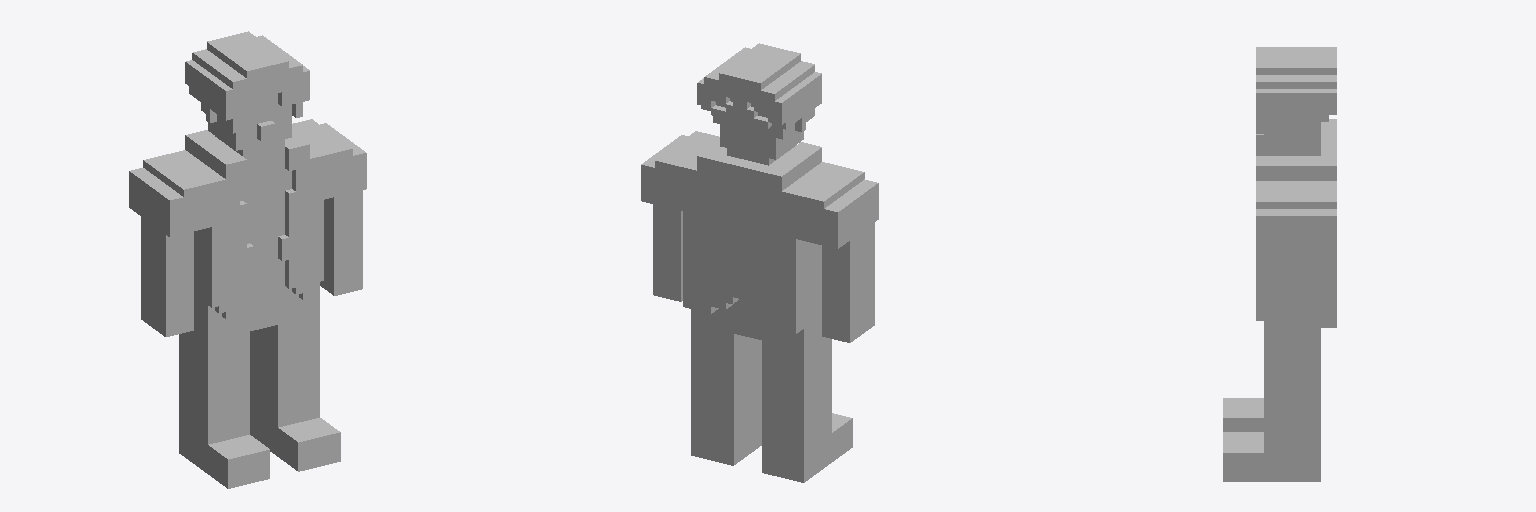
File: player.obj
The picture shows the model from 3 angles: view 1: azimuth 30°, elevation 25°; view 2: azimuth 150°, elevation 25°; view 3: azimuth 270°, elevation 25°; orthographic projection.
Bounding box in the file's own units: 28 × 54 × 14.